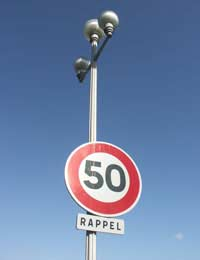Speed_limit_50km: (64, 140, 143, 217)
